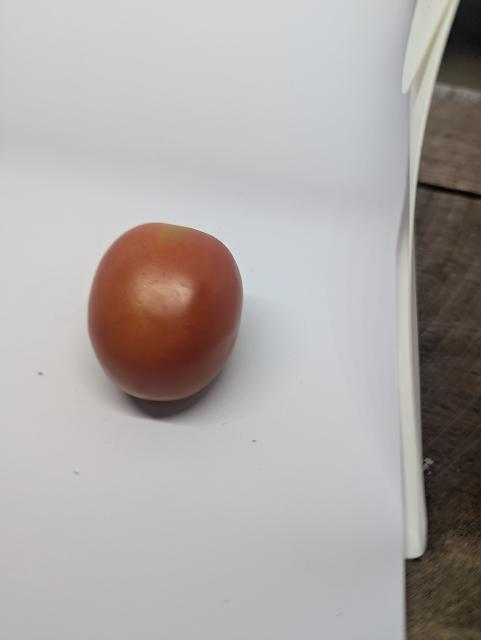red: (83, 218, 249, 407)
